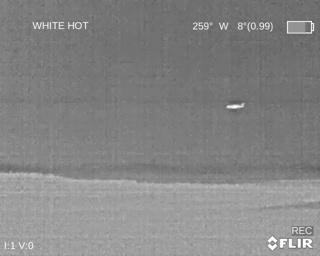AIRPLANE: (225, 101, 246, 110)
